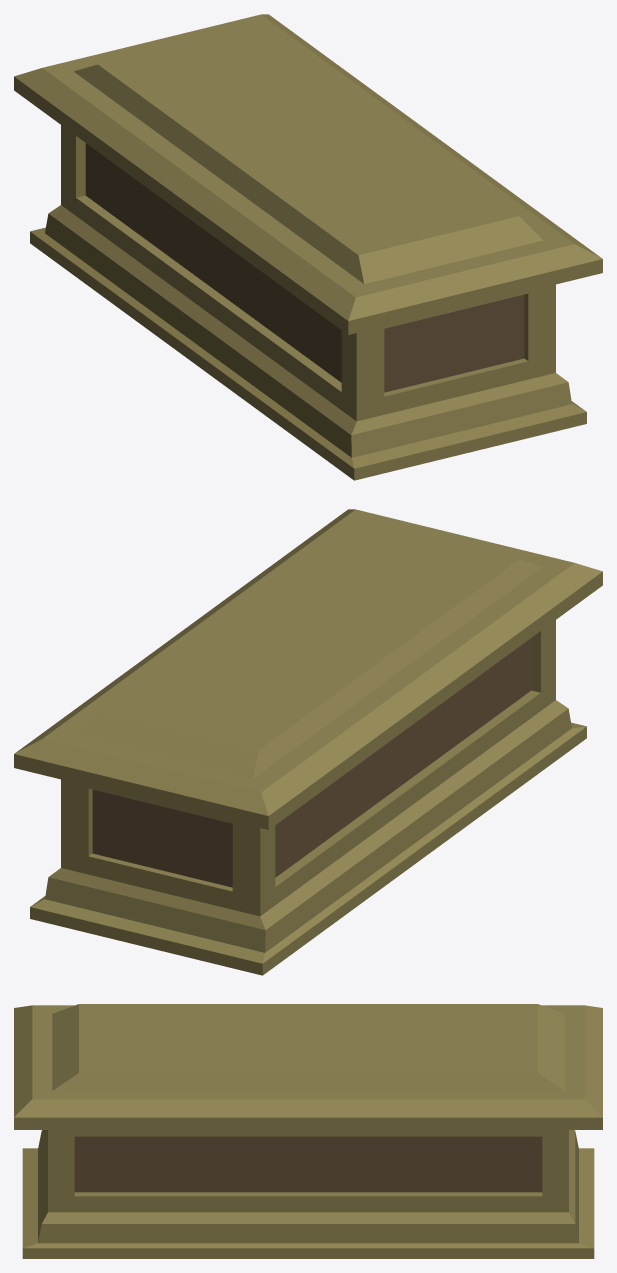
The model's file is Coffin2.fbx.
3 renders of one model, top to bottom at view 1: azimuth 30°, elevation 25°; view 2: azimuth 150°, elevation 25°; view 3: azimuth 270°, elevation 25°, orthographic. The views are drawn at different scales.
Visible parts, largest first — view 1: Coffin2; view 2: Coffin2; view 3: Coffin2.
Boxes of the visible parts, bbox=[...] form: Coffin2: bbox=[14, 14, 602, 480]; Coffin2: bbox=[14, 509, 602, 975]; Coffin2: bbox=[14, 1004, 602, 1258].
Size of the model in its own units: 0.8948 by 0.6491 by 2.03.
